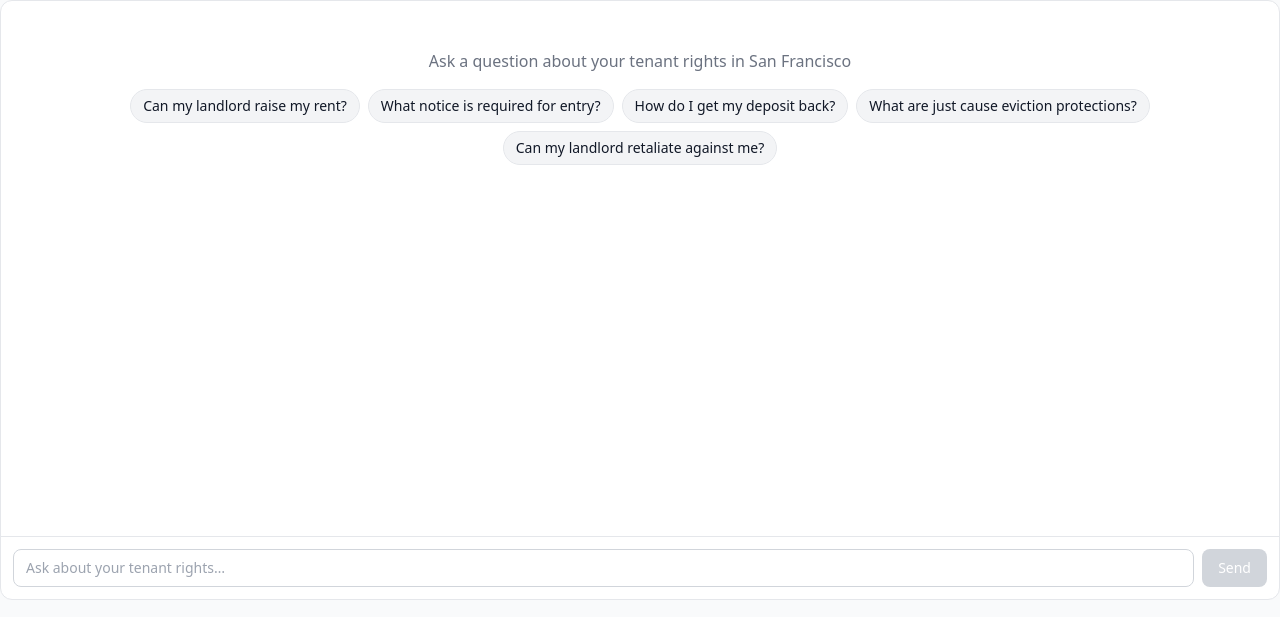
Scenario: RightsChat › renders the assistant answer and sources after API resolves
Type "What notice is required for entry?" into the field with placeholder "Ask about your tenant rights…" at (604, 568), box 13,549 -> 1194,587
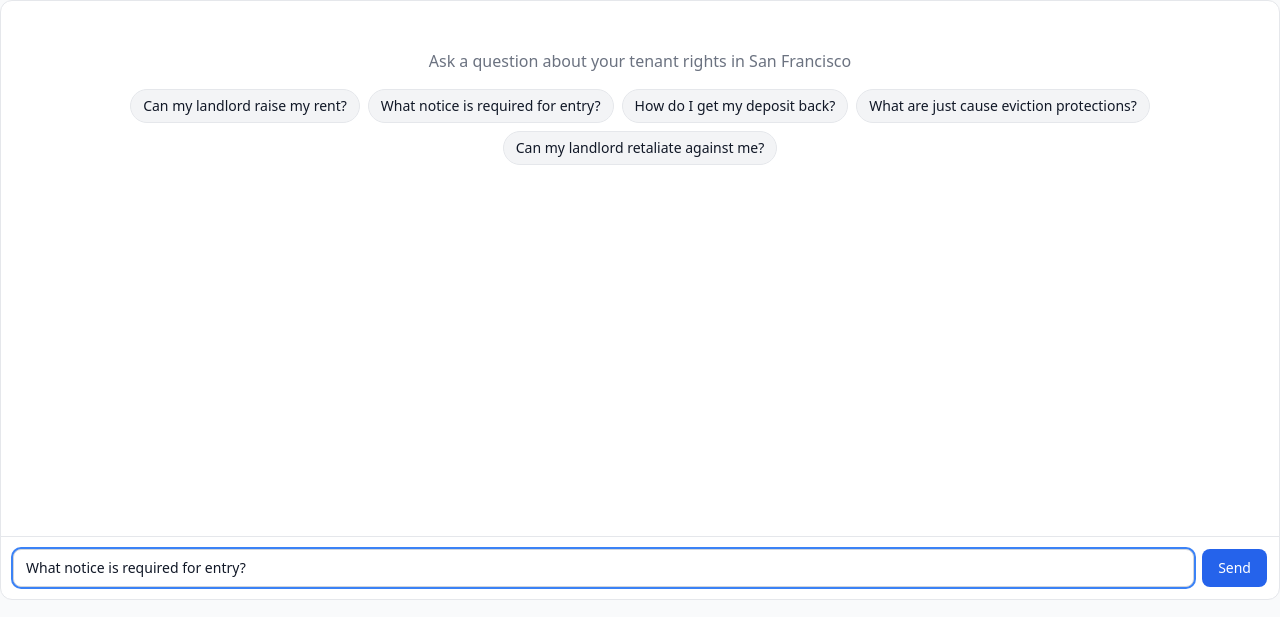
Click the button "Send" at (1235, 568), box 1202,549 -> 1267,587
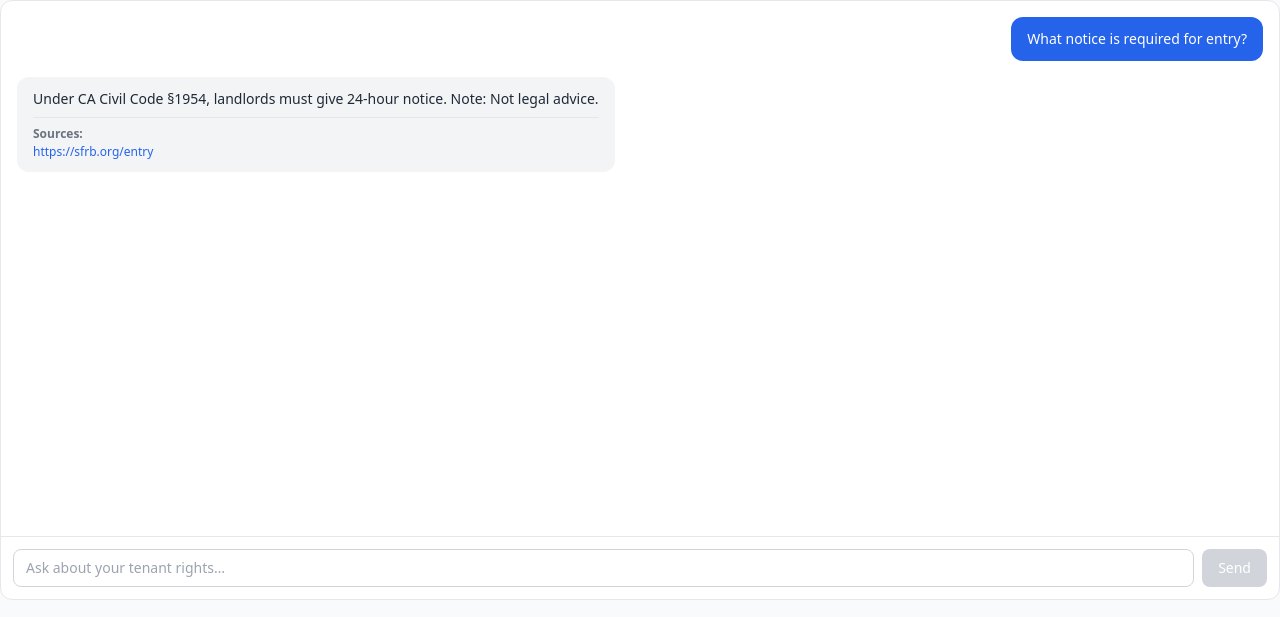
Result: the text "CA Civil Code §1954" is shown at 33,89 -> 599,108
Result: the link "https://sfrb.org/entry" is shown at 33,143 -> 153,160
